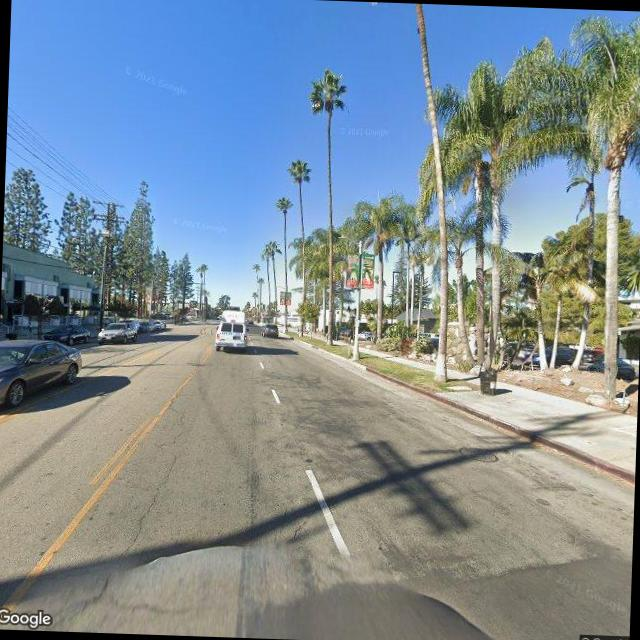crack: (122, 404, 191, 558)
